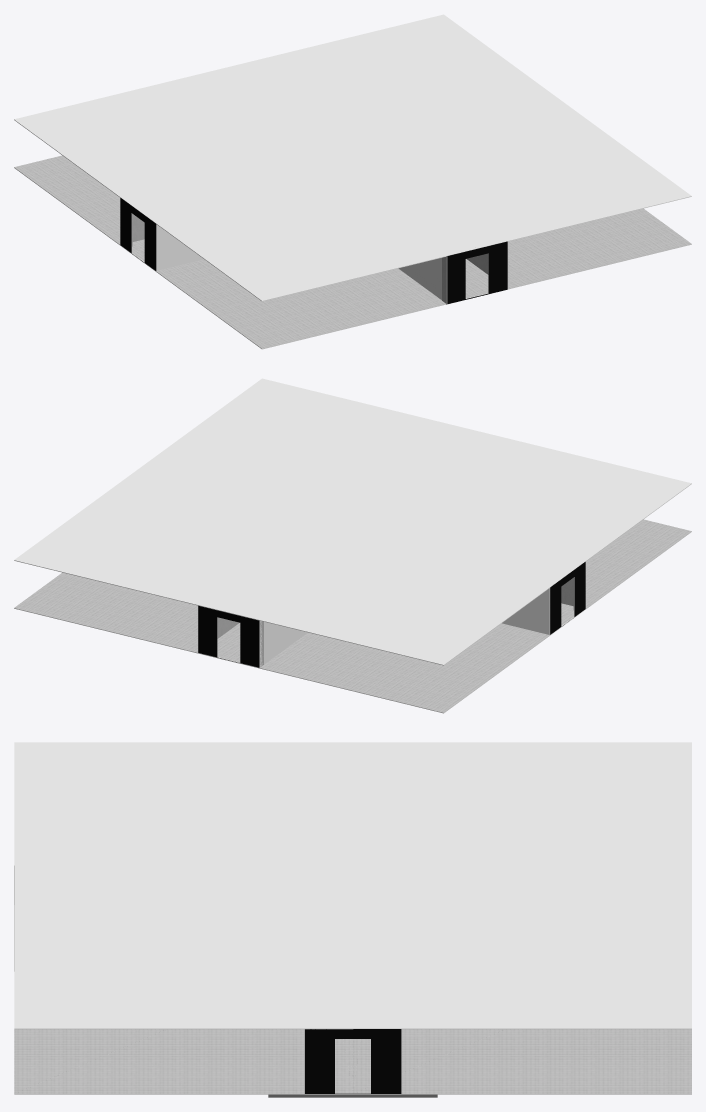
The model's file is XCross_V3-Variant1.fbx.
3 renders of one model, top to bottom at view 1: azimuth 30°, elevation 25°; view 2: azimuth 150°, elevation 25°; view 3: azimuth 270°, elevation 25°, orthographic. The views are drawn at different scales.
Visible parts, largest first — view 1: node_id58, node_id55, node_id52, node_id49, node_id12, node_id16, node_id20, node_id85, node_id28, node_id34, node_id79; view 2: node_id52, node_id49, node_id58, node_id55, node_id20, node_id24, node_id12, node_id82, node_id70, node_id28, node_id73; view 3: node_id55, node_id49, node_id58, node_id52, node_id16, node_id24, node_id31, node_id88.
Boxes of the visible parts, box(x1,y1,x2,y2) form: node_id58: box(138, 158, 476, 301); node_id55: box(353, 105, 691, 248); node_id52: box(14, 67, 352, 209); node_id49: box(229, 14, 567, 157); node_id12: box(139, 256, 475, 348); node_id16: box(465, 208, 691, 295); node_id20: box(14, 155, 144, 257); node_id85: box(446, 241, 507, 304); node_id28: box(120, 198, 156, 270); node_id34: box(156, 185, 308, 270); node_id79: box(398, 256, 447, 303); node_id52: box(229, 522, 567, 665); node_id49: box(14, 469, 352, 612); node_id58: box(353, 431, 691, 573); node_id55: box(138, 378, 476, 521); node_id20: box(230, 620, 566, 712); node_id24: box(14, 572, 240, 659); node_id12: box(561, 519, 691, 621); node_id82: box(198, 606, 259, 667); node_id70: box(421, 555, 549, 634); node_id28: box(550, 562, 585, 634); node_id73: box(259, 563, 336, 667); node_id55: box(14, 885, 353, 1029); node_id49: box(353, 885, 691, 1029); node_id58: box(14, 742, 353, 885); node_id52: box(353, 742, 691, 885); node_id16: box(14, 1029, 353, 1093); node_id24: box(353, 1029, 691, 1093); node_id31: box(305, 1029, 401, 1093); node_id88: box(268, 1094, 437, 1097).
Bounding box in the file's own units: 0.512 × 0.1473 × 0.5123.
Materials: 62 (33 with a texture image).
